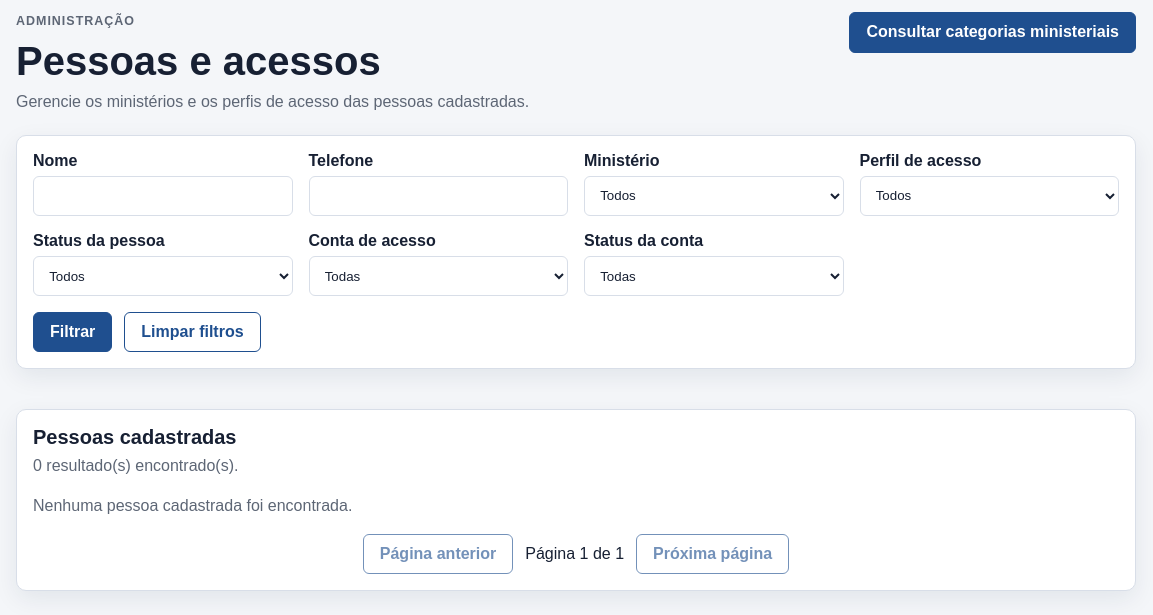
Scenario: AdminUserManagementComponent › should treat personActive=false as an active filter for the empty state message
This screenshot has width=1153, height=615.
Select "Inativas" in the dropdown with id "user-person-active" at {"x": 163, "y": 276}, box left=33, top=256, right=292, bottom=296
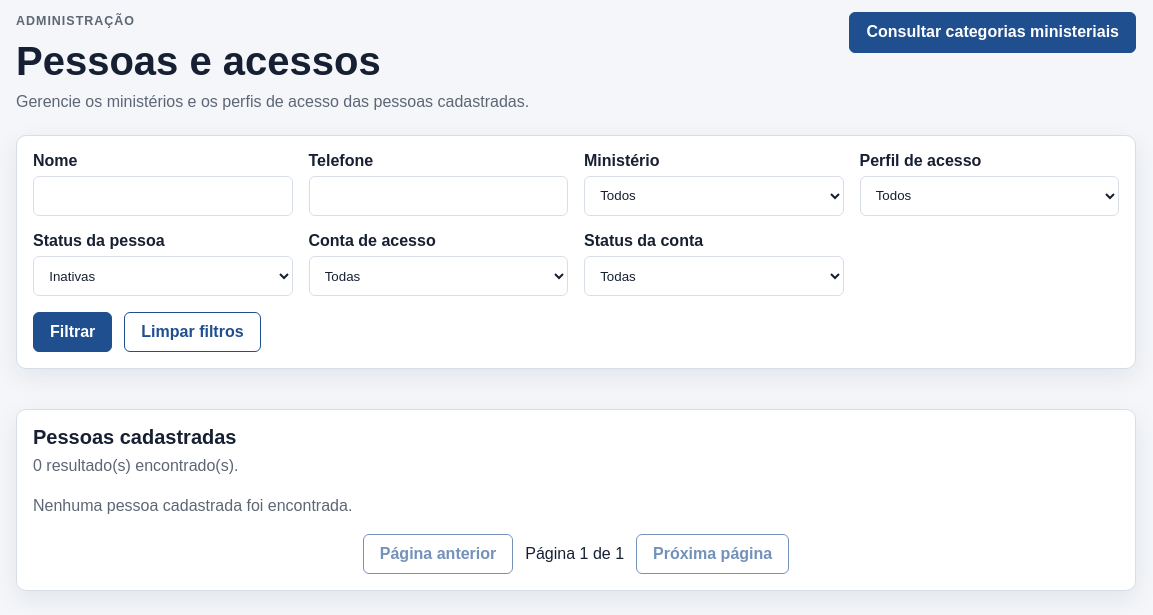
Submit the form, box left=16, top=134, right=1136, bottom=369
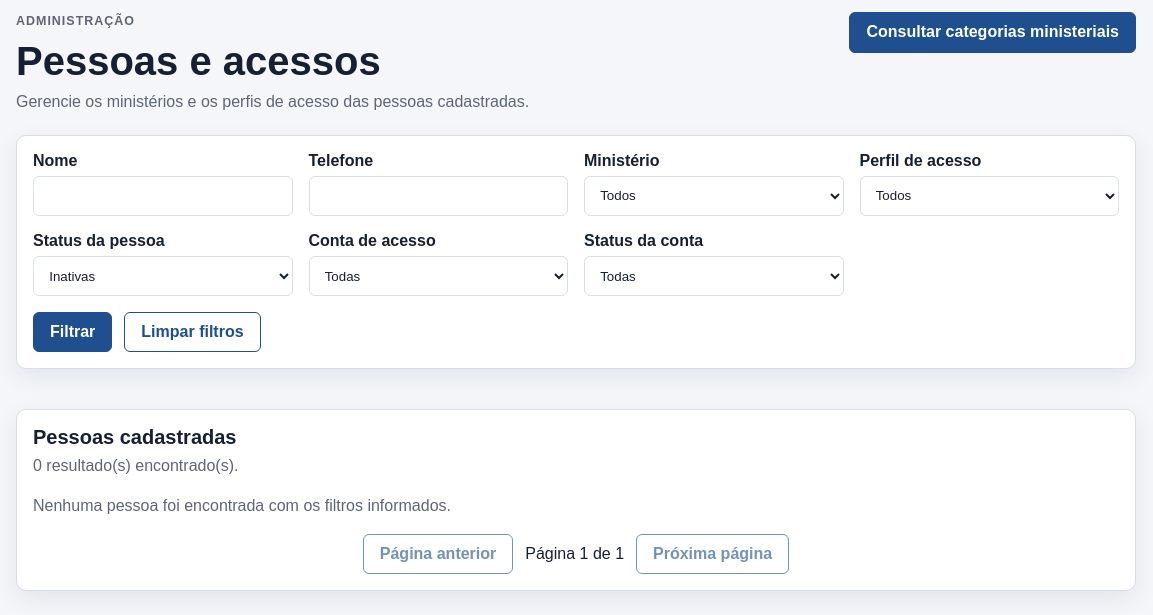
Result: the text "Nenhuma pessoa foi encontrada com os filtros informados." is shown at left=33, top=497, right=451, bottom=514
